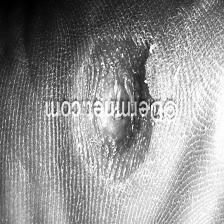Toxin: (78, 41, 156, 187)
